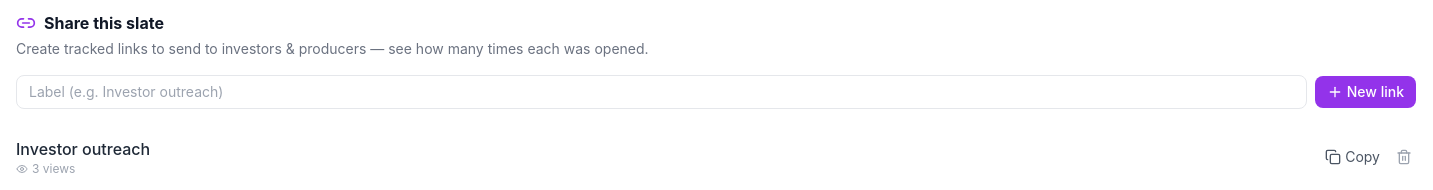
Test: SlateShareLinks › copies the share URL to the clipboard
The width and height of the screenshot is (1433, 190).
Expected: the text "Investor outreach" is shown, [16,137,150,161]
Click the button with aria-label "copy link".
click(1353, 157)  # box [1317,143,1388,171]
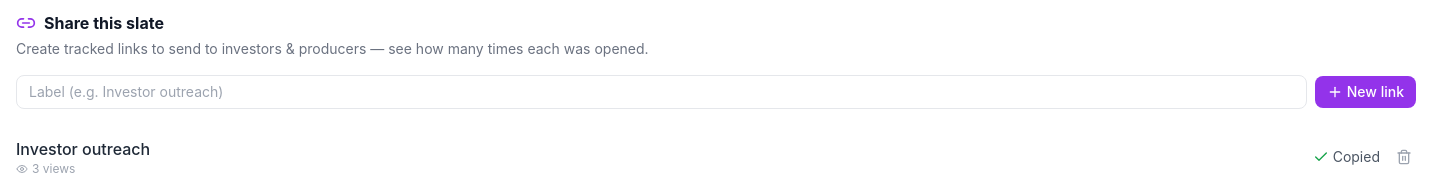
Expected: the button "Copied" is shown, [1305,143,1388,171]
